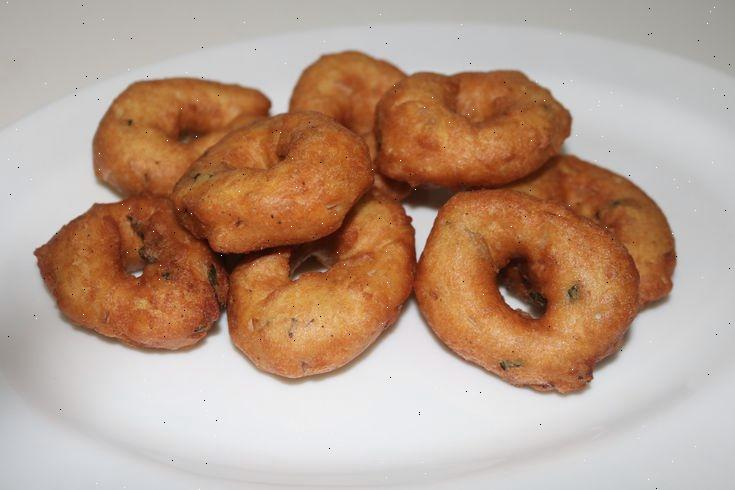medu vada: (51, 45, 682, 421)
